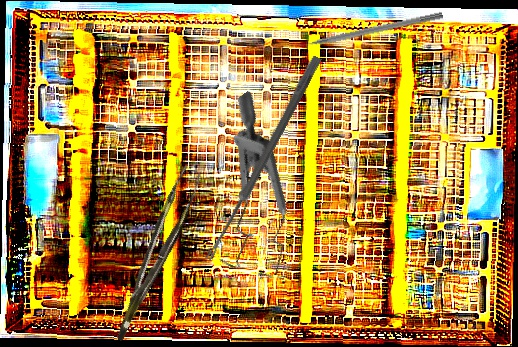Pusher: (289, 9, 444, 52)
Speculum: (149, 90, 345, 296)
Surgical Spoon: (204, 54, 322, 263)
Tissue Forceps: (95, 163, 213, 342)
